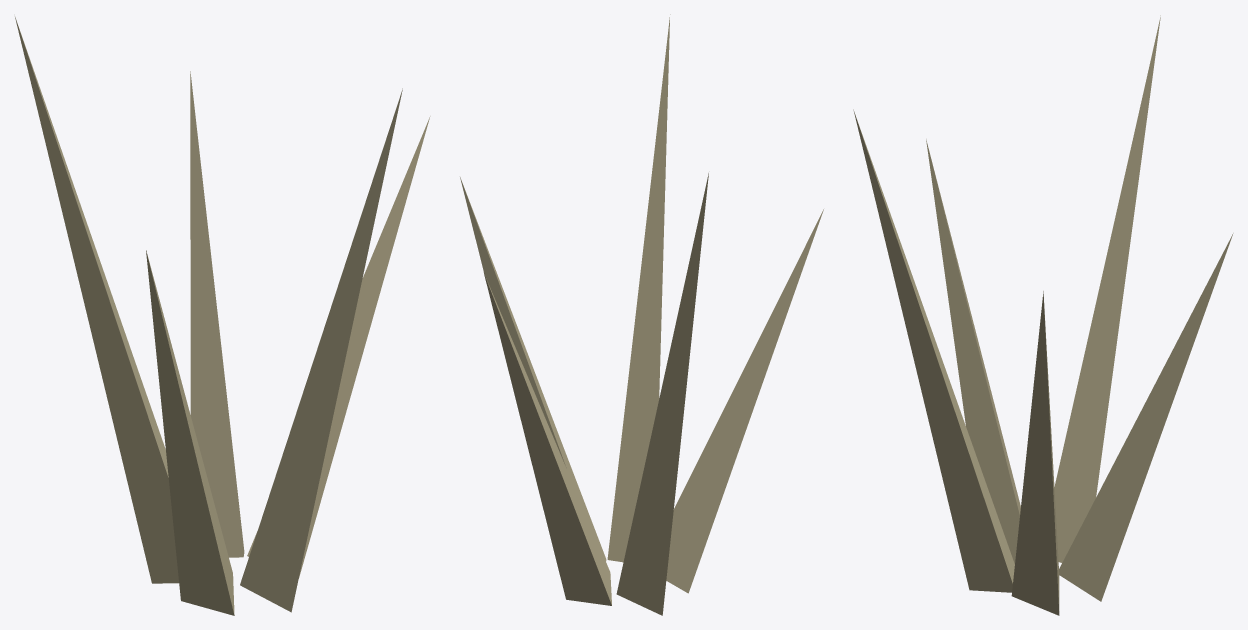
File: env_grass.glb
The picture shows the model from 3 angles, left to right: view 1: azimuth 30°, elevation 25°; view 2: azimuth 150°, elevation 25°; view 3: azimuth 270°, elevation 25°; orthographic projection. The views are drawn at different scales.
Parts seen in each view (by area): view 1: grass; view 2: grass; view 3: grass.
Boxes of the visible parts, x1,y1,x2,y2 form: grass: (15,17,430,615); grass: (460,14,823,615); grass: (853,15,1233,615).
Bounding box in the file's own units: 0.398 × 0.6107 × 0.4185.
